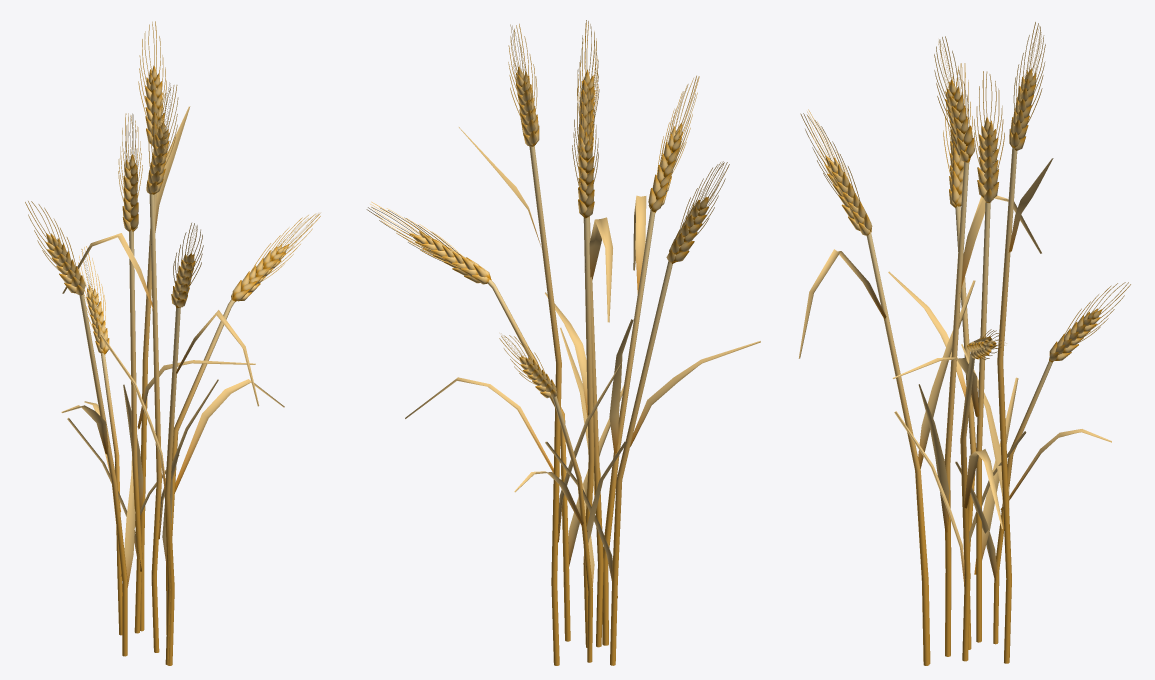
Rendered from wheat.fbx.
3 renders of one model, left to right at view 1: azimuth 30°, elevation 25°; view 2: azimuth 150°, elevation 25°; view 3: azimuth 270°, elevation 25°, orthographic. The views are drawn at different scales.
Parts seen in each view (by area): view 1: Wheat; view 2: Wheat; view 3: Wheat.
Part boxes in pixels (box(x1,y1,x2,y2)): Wheat: box(25, 21, 320, 665); Wheat: box(366, 20, 760, 665); Wheat: box(798, 22, 1130, 665).
Size of the model in its own units: 53.55 by 93.31 by 44.7.
